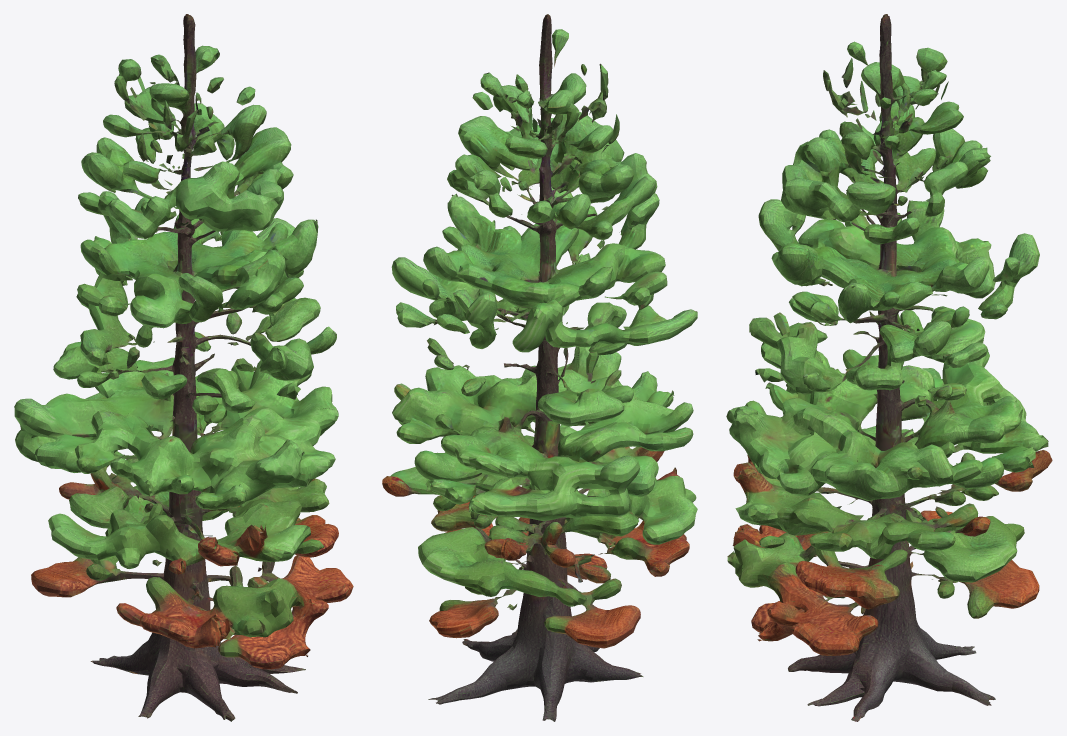
Rendered from veg_conifer_pine_01.glb.
3 renders of one model, left to right at view 1: azimuth 30°, elevation 25°; view 2: azimuth 150°, elevation 25°; view 3: azimuth 270°, elevation 25°, orthographic.
Parts seen in each view (by area): view 1: veg_conifer_pine_01; view 2: veg_conifer_pine_01; view 3: veg_conifer_pine_01.
Part boxes in pixels (<box>): veg_conifer_pine_01: <box>14,14,353,721</box>; veg_conifer_pine_01: <box>382,14,697,721</box>; veg_conifer_pine_01: <box>726,14,1052,721</box>.
Bounding box in the file's own units: 9.13 × 21.21 × 9.5.
Materials: 1 (1 with a texture image).
